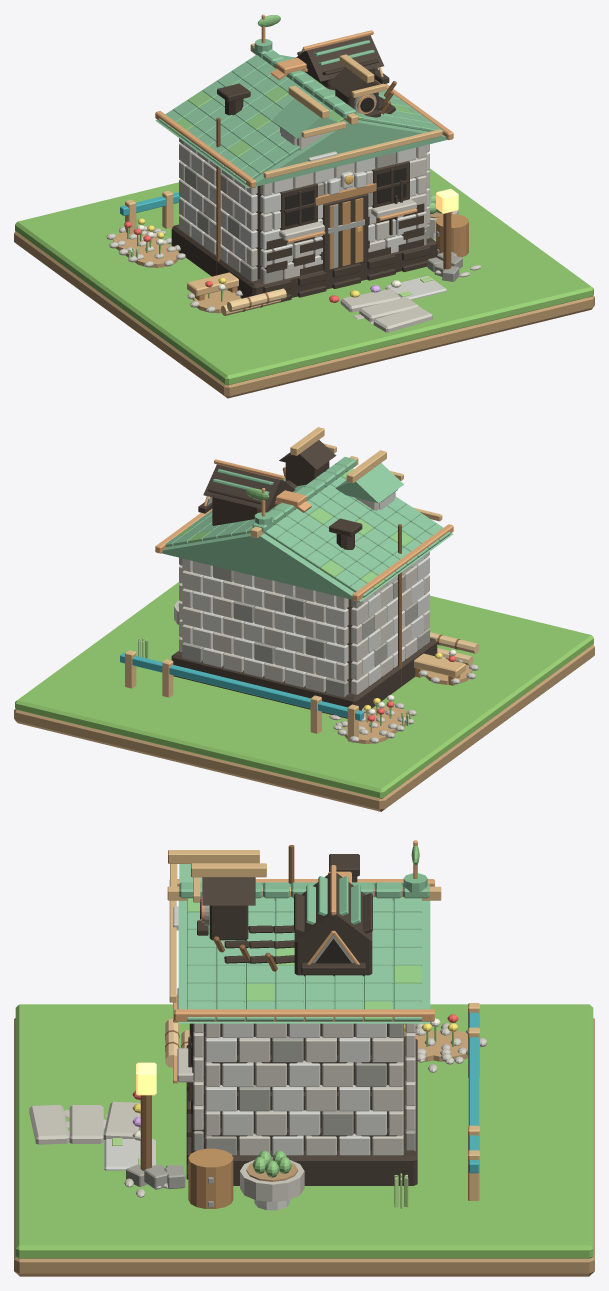
File: stone_house_l02_damaged.glb
3 views of the same model, one above another, from view 1: azimuth 30°, elevation 25°; view 2: azimuth 150°, elevation 25°; view 3: azimuth 270°, elevation 25° (orthographic). The views are drawn at different scales.
Parts seen in each view (by area): view 1: stone_house_component_pilot_grass_tile.002, stone_house_component_pilot_earth_tile.002, pilot_stone_house_l02_roof_gable_roof.001, pilot_stone_house_l02_spec_stone_block_medium_medium_foundat, pilot_stone_house_l02_side_dormer_green_gable.001, pilot_stone_house_l02_stone_door.001, pilot_stone_house_l02_roof_roof_front_trim.001, pilot_stone_house_l02_roof_dormer_gable_roof.001, pilot_stone_house_l02_yard_barrel_barrel_body.001, pilot_stone_house_l02_roof_eave_-1.001, stone_house_component_pilot_path_stone_03.002, pilot_stone_house_l02_stone_l_window_pane.001 (+15 smaller); view 2: stone_house_component_pilot_grass_tile.002, stone_house_component_pilot_earth_tile.002, pilot_stone_house_l02_roof_gable_roof.001, pilot_stone_house_l02_spec_stone_block_medium_medium_foundat, pilot_stone_house_l02_yard_fence_rail.001, pilot_stone_house_l02_side_dormer_green_gable.001, pilot_stone_house_l02_roof_dormer_gable_roof.001, pilot_stone_house_l02_side_dormer_stone_cheek.001, pilot_stone_house_l02_roof_eave_-1.001, pilot_stone_house_l02_round_attic_window_little_green_roof_g, pilot_stone_house_l02_yard_bench_seat.001, pilot_stone_house_l02_round_attic_window_stone_dormer_body.0 (+2 smaller); view 3: stone_house_component_pilot_grass_tile.002, stone_house_component_pilot_earth_tile.002, pilot_stone_house_l02_spec_stone_block_medium_medium_foundat, pilot_stone_house_l02_roof_gable_roof.001, pilot_stone_house_l02_yard_barrel_barrel_body.001, pilot_stone_house_l02_roof_eave_+1.001, pilot_stone_house_l02_side_dormer_green_gable.001, pilot_stone_house_l02_yard_fence_rail.001, pilot_stone_house_l02_round_attic_window_little_green_roof_g, pilot_stone_house_l02_decor_seed_planter_bowl.001, pilot_stone_house_l02_stone_body_stone_wall_core.001, pilot_stone_house_l02_round_attic_window_stone_dormer_body.0 (+38 smaller).
Part boxes in pixels (left/top/right/bottom): stone_house_component_pilot_grass_tile.002: left=15, top=168, right=593, bottom=385; stone_house_component_pilot_earth_tile.002: left=14, top=231, right=594, bottom=398; pilot_stone_house_l02_roof_gable_roof.001: left=155, top=55, right=447, bottom=188; pilot_stone_house_l02_spec_stone_block_medium_medium_foundat: left=171, top=224, right=437, bottom=298; pilot_stone_house_l02_side_dormer_green_gable.001: left=295, top=35, right=383, bottom=81; pilot_stone_house_l02_stone_door.001: left=321, top=193, right=368, bottom=271; pilot_stone_house_l02_roof_roof_front_trim.001: left=263, top=129, right=442, bottom=178; pilot_stone_house_l02_roof_dormer_gable_roof.001: left=272, top=98, right=338, bottom=138; pilot_stone_house_l02_yard_barrel_barrel_body.001: left=436, top=214, right=468, bottom=257; pilot_stone_house_l02_roof_eave_-1.001: left=155, top=111, right=256, bottom=188; stone_house_component_pilot_path_stone_03.002: left=373, top=306, right=432, bottom=332; pilot_stone_house_l02_stone_l_window_pane.001: left=285, top=189, right=314, bottom=226; stone_house_component_pilot_grass_tile.002: left=15, top=582, right=593, bottom=798; stone_house_component_pilot_earth_tile.002: left=14, top=644, right=594, bottom=811; pilot_stone_house_l02_roof_gable_roof.001: left=161, top=468, right=453, bottom=601; pilot_stone_house_l02_spec_stone_block_medium_medium_foundat: left=171, top=638, right=437, bottom=718; pilot_stone_house_l02_yard_fence_rail.001: left=120, top=653, right=363, bottom=720; pilot_stone_house_l02_side_dormer_green_gable.001: left=203, top=464, right=295, bottom=510; pilot_stone_house_l02_roof_dormer_gable_roof.001: left=335, top=463, right=403, bottom=502; pilot_stone_house_l02_side_dormer_stone_cheek.001: left=212, top=494, right=277, bottom=525; pilot_stone_house_l02_roof_eave_-1.001: left=352, top=524, right=453, bottom=601; pilot_stone_house_l02_round_attic_window_little_green_roof_g: left=279, top=440, right=336, bottom=469; pilot_stone_house_l02_yard_bench_seat.001: left=414, top=653, right=465, bottom=677; pilot_stone_house_l02_round_attic_window_stone_dormer_body.0: left=285, top=461, right=329, bottom=485; stone_house_component_pilot_grass_tile.002: left=15, top=1004, right=593, bottom=1258; stone_house_component_pilot_earth_tile.002: left=14, top=1018, right=594, bottom=1276; pilot_stone_house_l02_spec_stone_block_medium_medium_foundat: left=191, top=1036, right=417, bottom=1185; pilot_stone_house_l02_roof_gable_roof.001: left=178, top=900, right=430, bottom=1023; pilot_stone_house_l02_yard_barrel_barrel_body.001: left=188, top=1148, right=233, bottom=1208; pilot_stone_house_l02_roof_eave_+1.001: left=174, top=1009, right=434, bottom=1021; pilot_stone_house_l02_side_dormer_green_gable.001: left=294, top=873, right=372, bottom=941; pilot_stone_house_l02_yard_fence_rail.001: left=468, top=1012, right=479, bottom=1173; pilot_stone_house_l02_round_attic_window_little_green_roof_g: left=202, top=877, right=255, bottom=905; pilot_stone_house_l02_decor_seed_planter_bowl.001: left=240, top=1157, right=304, bottom=1201; pilot_stone_house_l02_stone_body_stone_wall_core.001: left=204, top=1023, right=404, bottom=1150; pilot_stone_house_l02_round_attic_window_stone_dormer_body.0: left=209, top=905, right=248, bottom=940.
Size of the model in its own units: 3.6 by 2.16 by 3.6.
